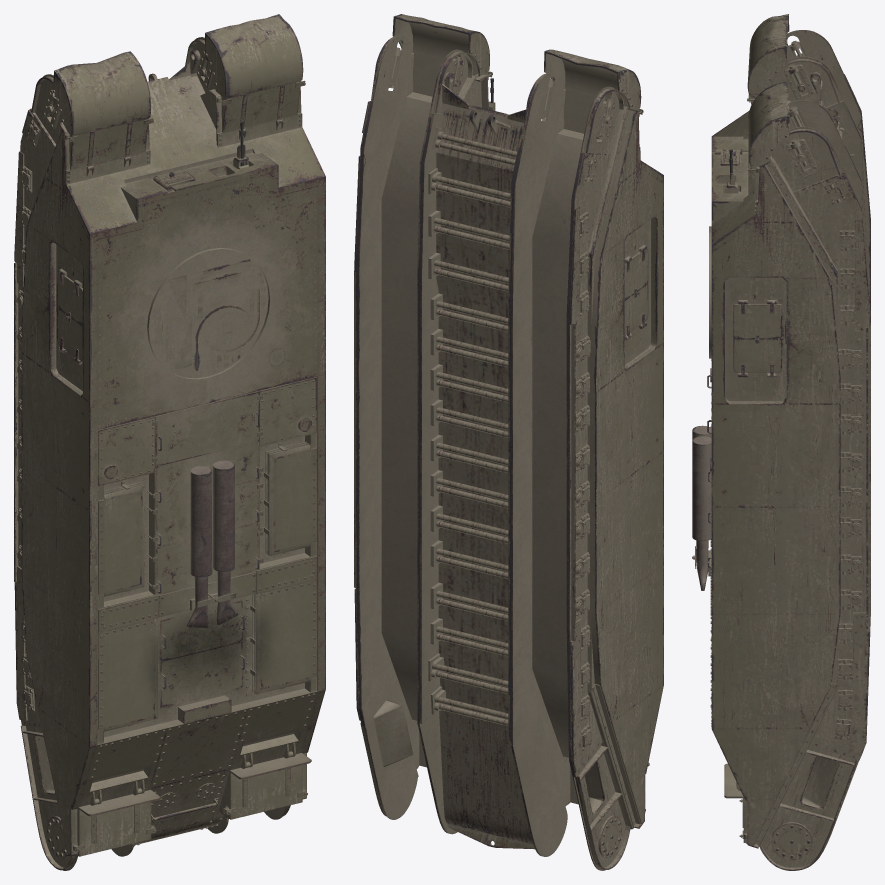
The model's file is Hull.glb.
3 views of the same model, side by side, from view 1: azimuth 30°, elevation 25°; view 2: azimuth 150°, elevation 25°; view 3: azimuth 270°, elevation 25° (orthographic). The views are drawn at different scales.
Parts seen in each view (by area): view 1: set_0_group_0; view 2: set_0_group_0; view 3: set_0_group_0.
Boxes of the visible parts, left/top/right/bottom form: set_0_group_0: left=14, top=14, right=325, bottom=870; set_0_group_0: left=354, top=14, right=663, bottom=870; set_0_group_0: left=692, top=14, right=870, bottom=870.
Size of the model in its own units: 3.12 by 10.17 by 2.17.
1 material, 1 textured.
